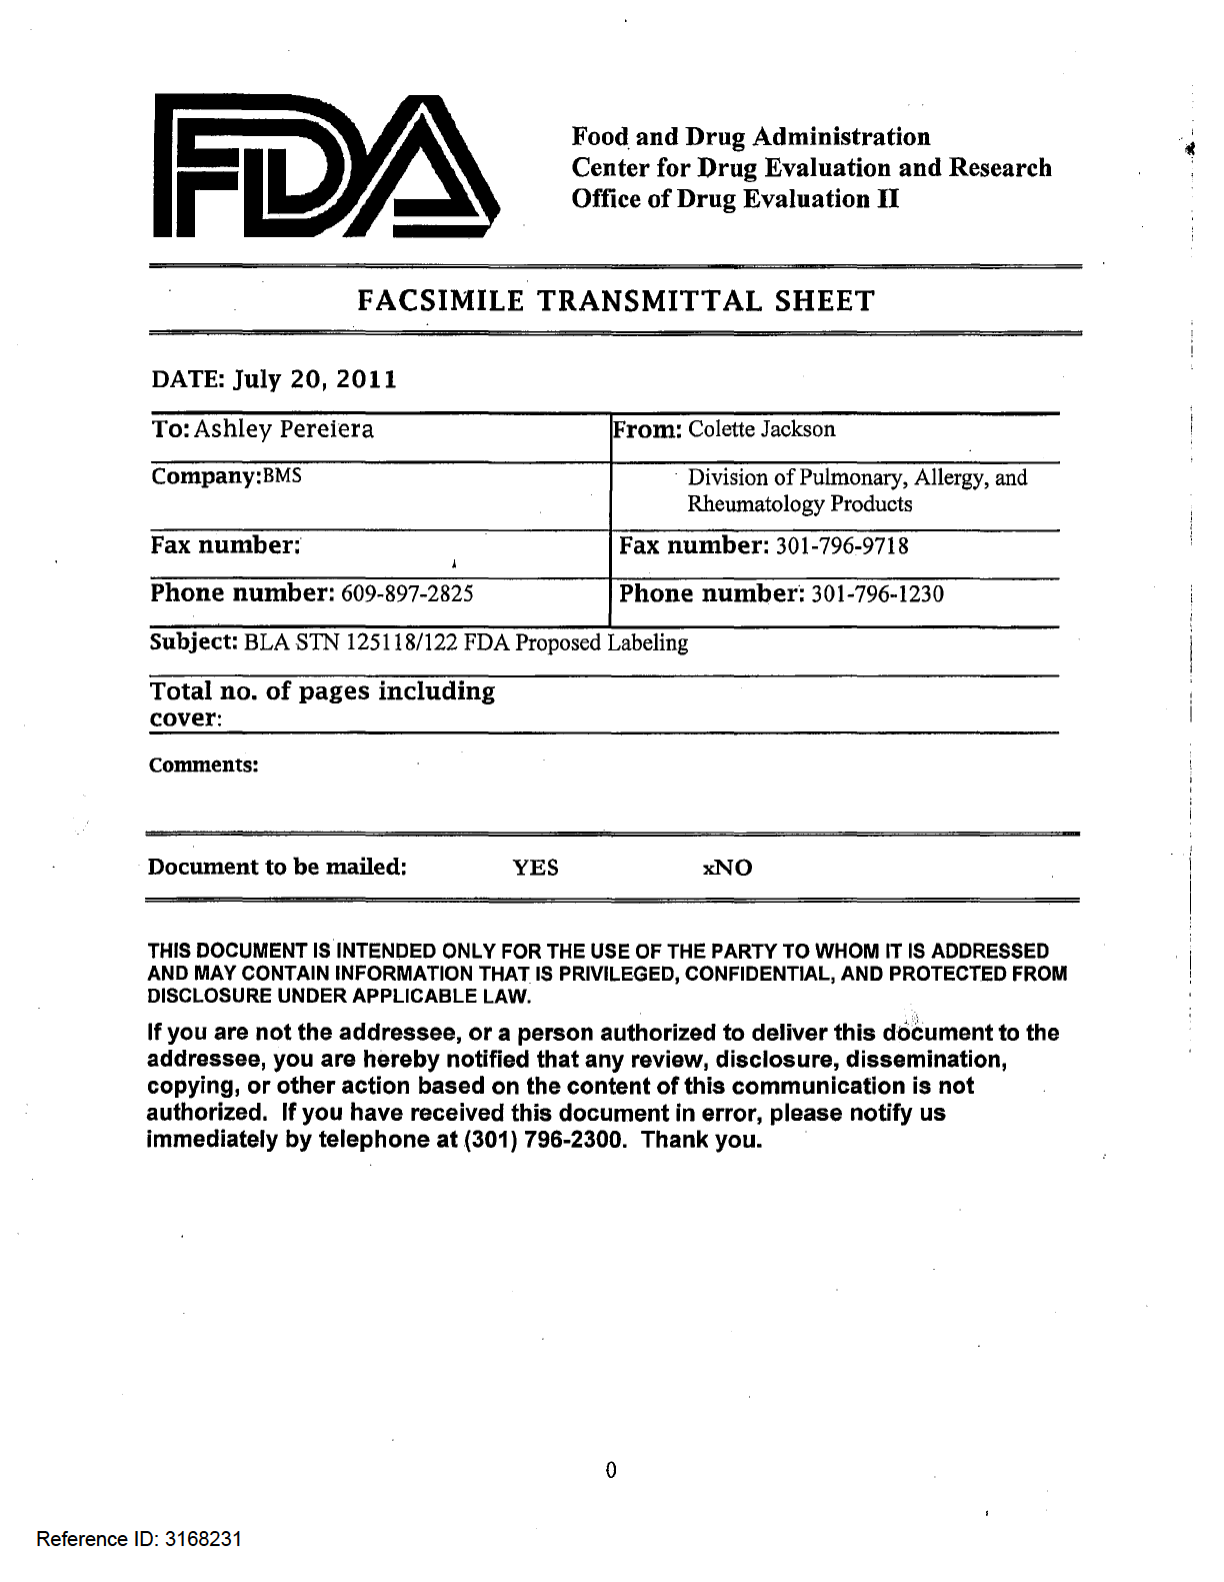partial_lined_merged_cells: (146, 327, 1087, 907)
